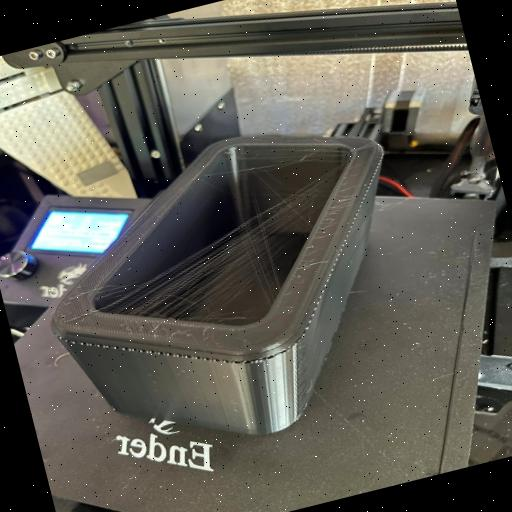stringing: (106, 167, 327, 321)
